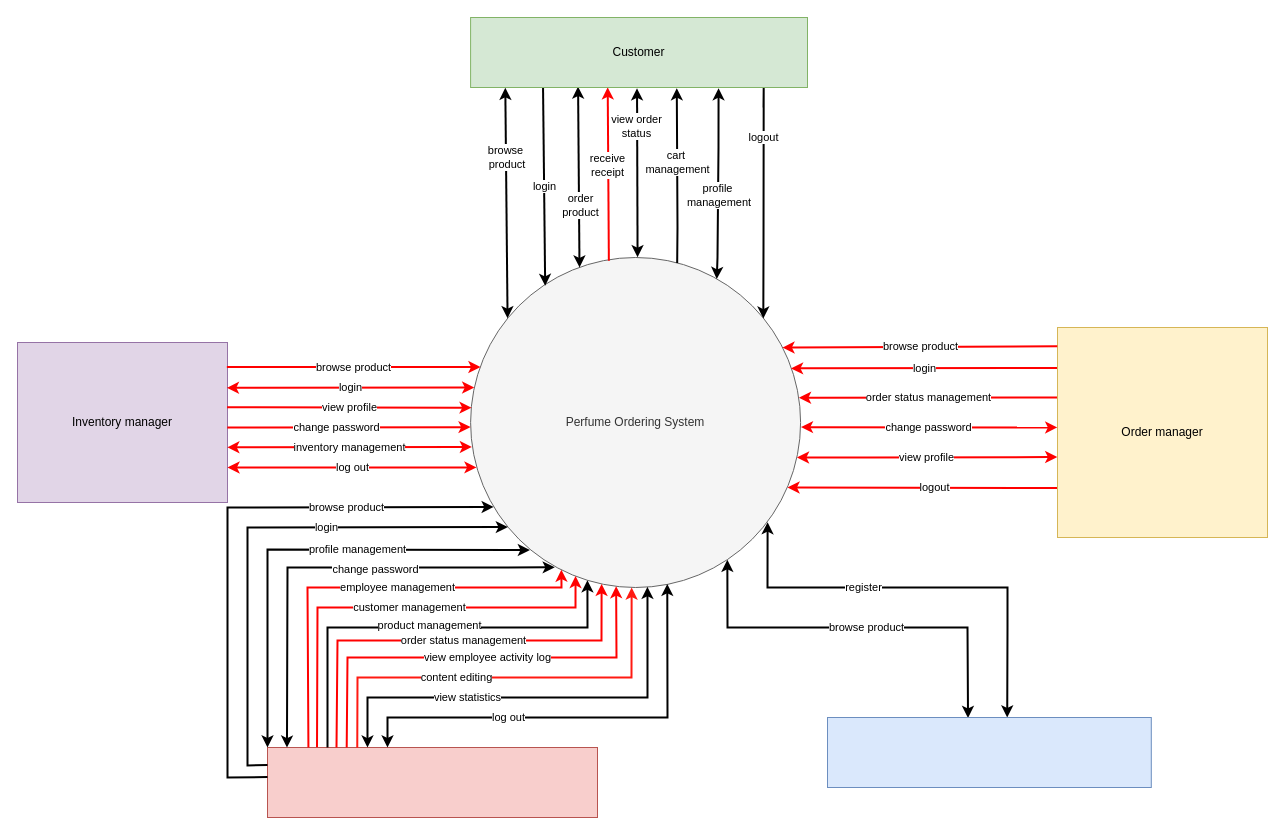
This 1285x835 diagram has some shape labels left out. Here are the shapes that lost their labels. From the top down, the box of each, then its label:
(826, 716, 1151, 788): Guest
(266, 746, 598, 818): Admin
